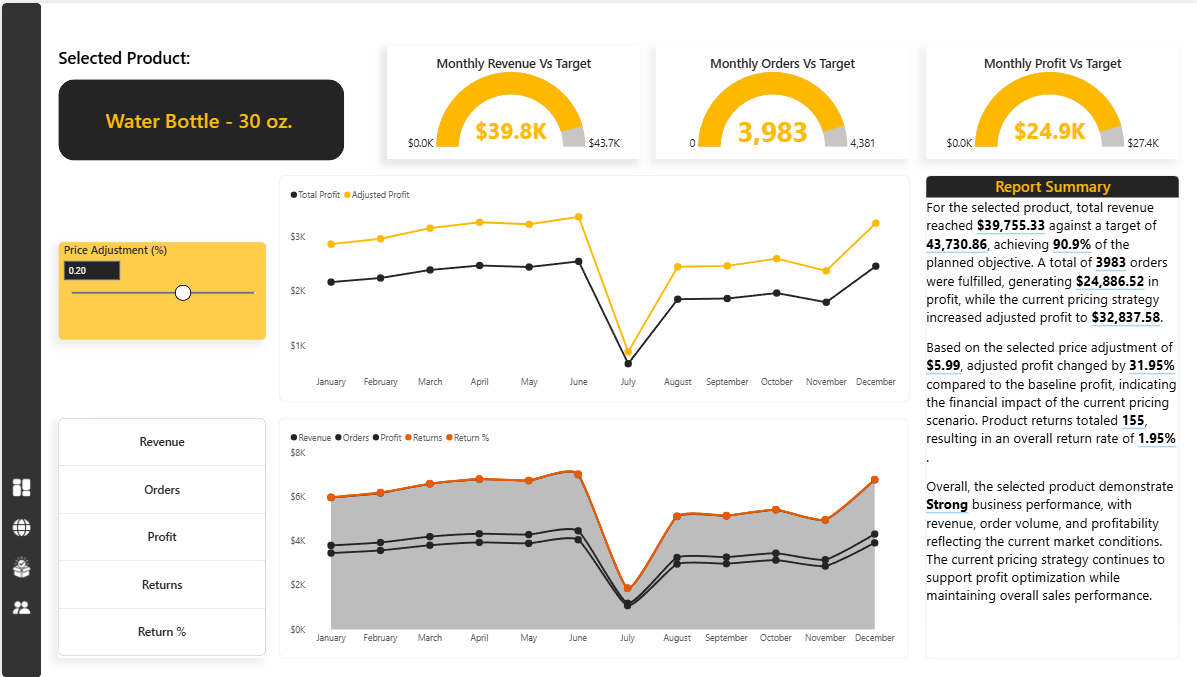

Layout of this report page (visuals, bound fields, positions):
{"tool":"powerbi","page":{"name":"Product Details","canvas":[1920,1080],"ordinal":2},"visuals":[{"type":"shape","box":[0,0,62.8,1079.1],"z":0},{"type":"shape","box":[90.5,121.2,457.8,130.3],"z":1000},{"type":"actionButton","box":[5.7,749.3,51.4,50],"z":2000,"group":"g1"},{"type":"group","id":"g1","title":"Close Nav Bar","box":[5.7,749.3,51.4,241.4],"z":2000},{"type":"cardVisual","fields":{"Data":["Min(Product Lookup.ProductName)"]},"box":[106.8,133.9,418,105],"z":3000},{"type":"actionButton","box":[5.7,813.1,51.4,50],"z":3000,"group":"g1"},{"type":"actionButton","box":[5.7,876.9,51.4,50],"z":4000,"group":"g1"},{"type":"textbox","box":[90.5,68.8,398.1,52.5],"z":5000},{"type":"actionButton","box":[5.7,940.7,51.4,50],"z":5000,"group":"g1"},{"type":"gauge","title":"Monthly Revenue Vs Target","fields":{"MaxValue":["_All Measures.Target Revenue"],"Y":["_All Measures.Total Revenue"]},"box":[615.3,68.8,405.4,182.8],"z":6000},{"type":"gauge","title":"Monthly Orders Vs Target","fields":{"MaxValue":["_All Measures.Target Order"],"Y":["_All Measures.Total Orders"]},"box":[1046,68.8,405.4,182.8],"z":7000},{"type":"gauge","title":"Monthly Profit Vs Target","fields":{"MaxValue":["_All Measures.Target Profit"],"Y":["_All Measures.Total Profit"]},"box":[1478.5,68.8,405.4,182.8],"z":8000},{"type":"slicer","fields":{"Values":["Price Adjustment (%).Price Adjustment (%)"]},"box":[90.5,381.8,333,157.4],"z":9000},{"type":"lineChart","fields":{"Category":["Calendar Lookup.Start of Month.Variation.Date Hierarchy.Year","Calendar Lookup.Start of Month.Variation.Date Hierarchy.Quarter","Calendar Lookup.Start of Month.Variation.Date Hierarchy.Month","Calendar Lookup.Start of Month.Variation.Date Hierarchy.Day"],"Y":["_All Measures.Total Profit","_All Measures.Adjusted Profit"]},"box":[443.4,275.1,1008,361.9],"z":10000},{"type":"advancedSlicerVisual","fields":{"Values":["Product Selection Metric.Product Selection Metric"]},"box":[90.5,664.1,333,383.6],"z":11000},{"type":"stackedAreaChart","fields":{"Category":["Calendar Lookup.Start of Month.Variation.Date Hierarchy.Year","Calendar Lookup.Start of Month.Variation.Date Hierarchy.Quarter","Calendar Lookup.Start of Month.Variation.Date Hierarchy.Month","Calendar Lookup.Start of Month.Variation.Date Hierarchy.Day"],"Y":["_All Measures.Total Revenue","_All Measures.Total Orders","_All Measures.Total Profit","_All Measures.Total Returns","_All Measures.Return Rate"]},"box":[443.4,664.1,1006.2,383.6],"z":12000},{"type":"textbox","title":"Report Summary","box":[1478.5,275.1,405.4,772.7],"z":13000}]}

Visuals, with their boxes in screenshot pixels (x1, y1, x2, y2), scaled from the page's 1920x1080 canvas onto the 1197x677 screenshot:
shape: BBox(0, 0, 39, 676)
shape: BBox(56, 76, 342, 158)
actionButton: BBox(4, 470, 36, 501)
"Close Nav Bar" group: BBox(4, 470, 36, 621)
cardVisual - Min(Product Lookup.ProductName): BBox(67, 84, 327, 150)
actionButton: BBox(4, 510, 36, 541)
actionButton: BBox(4, 550, 36, 581)
textbox: BBox(56, 43, 305, 76)
actionButton: BBox(4, 590, 36, 621)
"Monthly Revenue Vs Target" gauge: BBox(384, 43, 636, 158)
"Monthly Orders Vs Target" gauge: BBox(652, 43, 905, 158)
"Monthly Profit Vs Target" gauge: BBox(922, 43, 1174, 158)
slicer - Price Adjustment (%).Price Adjustment (%): BBox(56, 239, 264, 338)
lineChart - Calendar Lookup.Start of Month.Variation.Date Hierarchy.Year x Calendar Lookup.Start of Month.Variation.Date Hierarchy.Quarter: BBox(276, 172, 905, 399)
advancedSlicerVisual - Product Selection Metric.Product Selection Metric: BBox(56, 416, 264, 657)
stackedAreaChart - Calendar Lookup.Start of Month.Variation.Date Hierarchy.Year x Calendar Lookup.Start of Month.Variation.Date Hierarchy.Quarter: BBox(276, 416, 904, 657)
"Report Summary" textbox: BBox(922, 172, 1174, 657)
